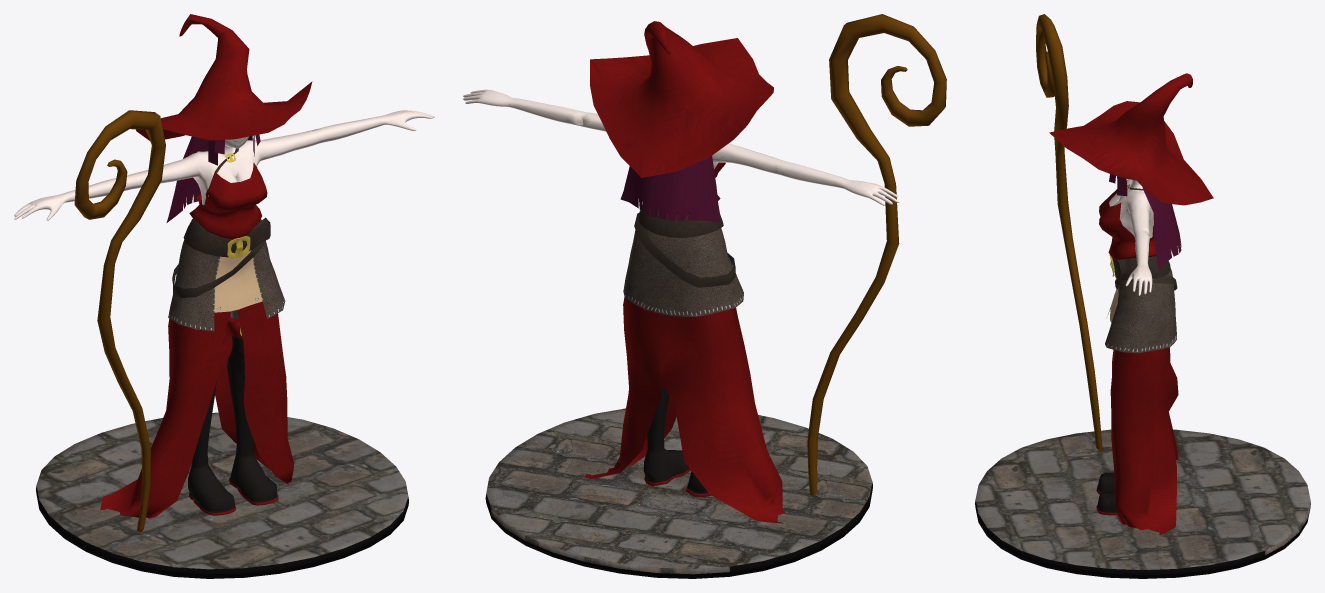
File: bruja.fbx
3 renders of one model, left to right at view 1: azimuth 30°, elevation 25°; view 2: azimuth 150°, elevation 25°; view 3: azimuth 270°, elevation 25°, orthographic. The views are drawn at different scales.
Visible parts, largest first — view 1: base, dress, wand, hat, Skin, Corset, Boots1, Top, Boots, Belt, HairBAck, Strip1; view 2: base, dress, hat, wand, Corset, Skin, HairBAck, Boots1, Belt, Strip1; view 3: base, dress, hat, wand, Corset, Skin, Top, HairBAck, Belt.
Boxes of the visible parts, <box> form: base: <box>36,412,408,578</box>; dress: <box>100,301,293,518</box>; wand: <box>74,110,165,532</box>; hat: <box>136,14,312,140</box>; Skin: <box>14,110,434,319</box>; Corset: <box>168,240,285,331</box>; Boots1: <box>226,314,278,505</box>; Top: <box>189,162,267,238</box>; Boots: <box>188,331,236,515</box>; Belt: <box>183,217,270,257</box>; HairBAck: <box>166,136,257,222</box>; Strip1: <box>172,241,265,297</box>; base: <box>485,408,872,578</box>; dress: <box>585,297,784,523</box>; hat: <box>590,21,773,177</box>; wand: <box>807,14,946,496</box>; Corset: <box>623,228,743,316</box>; Skin: <box>463,89,899,205</box>; HairBAck: <box>620,156,719,222</box>; Boots1: <box>643,385,690,485</box>; Belt: <box>638,205,723,237</box>; Strip1: <box>634,213,735,287</box>; base: <box>975,429,1310,578</box>; dress: <box>1110,347,1178,535</box>; hat: <box>1049,73,1213,205</box>; wand: <box>1036,14,1102,451</box>; Corset: <box>1105,256,1176,353</box>; Skin: <box>1109,179,1153,295</box>; Top: <box>1099,189,1156,259</box>; HairBAck: <box>1142,187,1181,270</box>; Belt: <box>1112,256,1170,281</box>.
Size of the model in its own units: 557 by 594 by 420.
10 materials, 8 textured.
